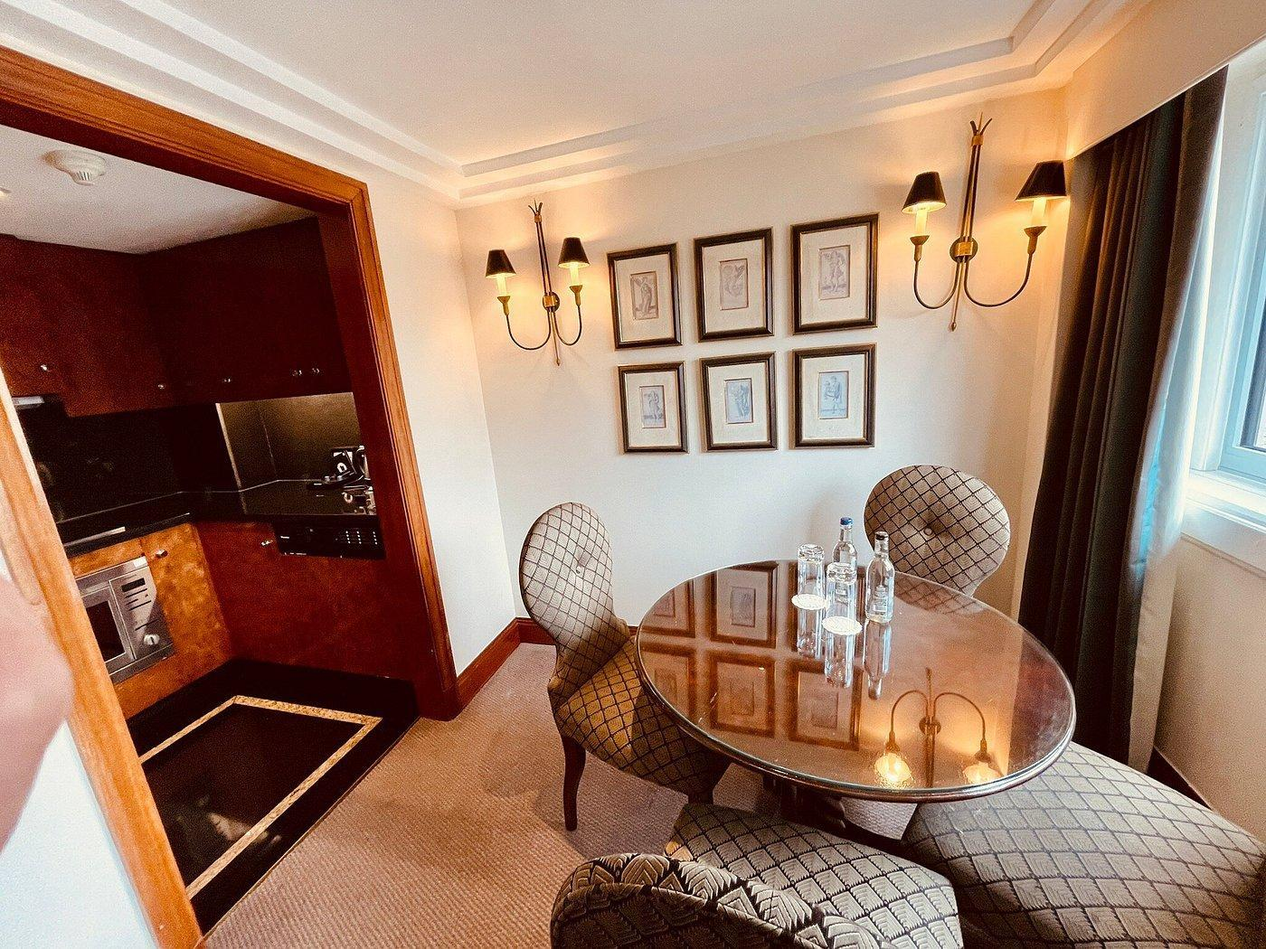chair: (930, 747, 1266, 949), (515, 515, 699, 838), (552, 806, 960, 949), (880, 462, 1022, 598)
clean_floor: (148, 694, 556, 949)
organized table: (638, 535, 1081, 798)
